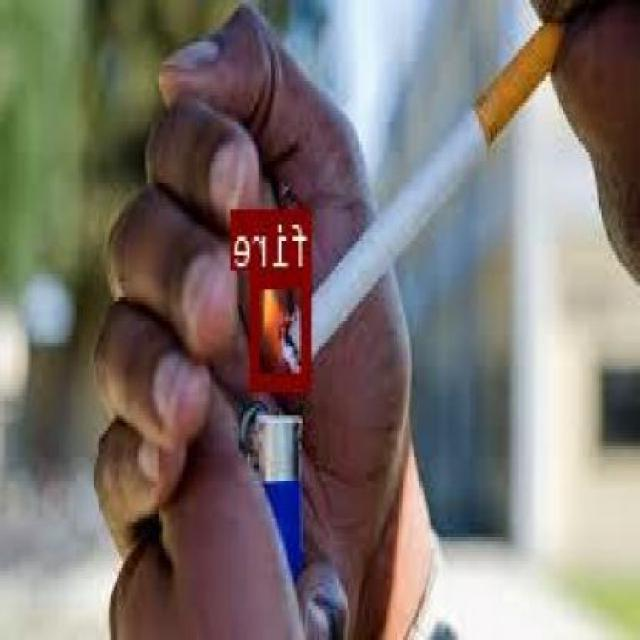fire: (254, 268, 312, 388)
